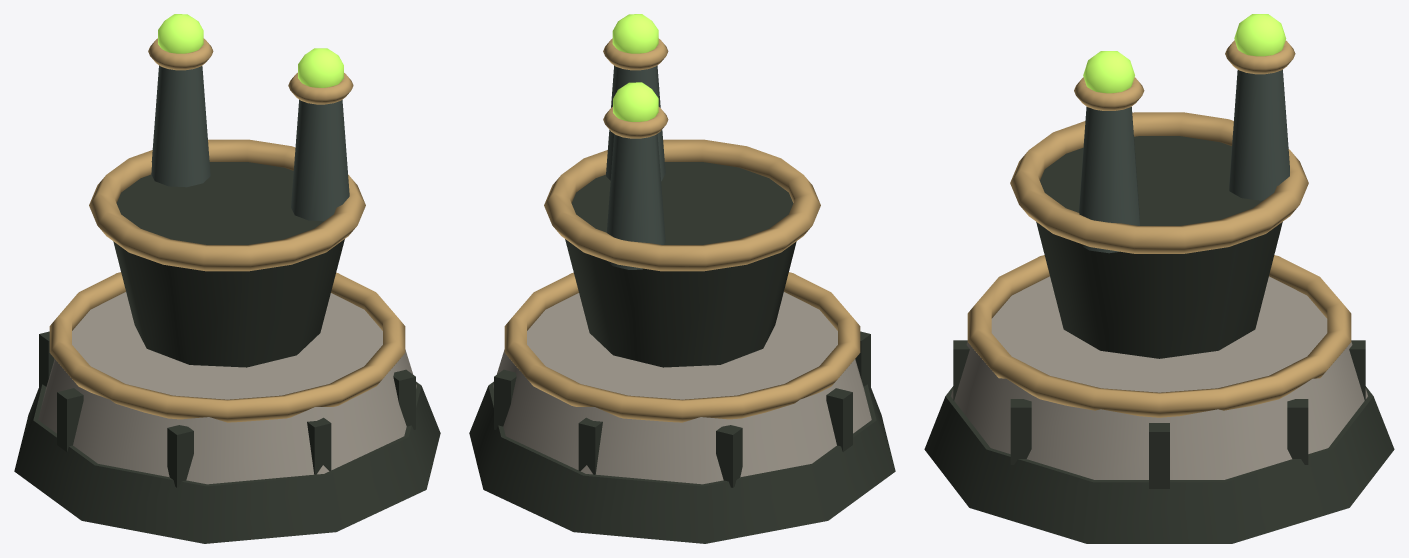
The model's file is tower_poison_poisonSpore.glb.
3 renders of one model, left to right at view 1: azimuth 30°, elevation 25°; view 2: azimuth 150°, elevation 25°; view 3: azimuth 270°, elevation 25°, orthographic. The views are drawn at different scales.
Visible parts, largest first — view 1: stone_1, vessel_11, foot_0, rim_2, vessel_lip_13, chimney_14, chimney_17, spore_19, spore_16, mortar_6, mortar_7, vent_15 (+4 smaller); view 2: stone_1, vessel_11, foot_0, vessel_lip_13, rim_2, chimney_14, spore_19, spore_16, chimney_17, mortar_8, mortar_7, vent_18 (+4 smaller); view 3: stone_1, vessel_11, foot_0, rim_2, vessel_lip_13, chimney_14, chimney_17, spore_19, spore_16, mortar_3, vent_15, vent_18 (+4 smaller).
Boxes of the visible parts, x1,y1,x2,y2 form: stone_1: (38, 292, 416, 484); vessel_11: (113, 162, 344, 367); foot_0: (14, 381, 440, 543); rim_2: (49, 272, 405, 422); vessel_lip_13: (89, 139, 365, 271); chimney_14: (151, 65, 210, 187); chimney_17: (291, 99, 349, 221); spore_19: (298, 48, 343, 87); spore_16: (158, 14, 203, 53); mortar_6: (167, 425, 193, 487); mortar_7: (57, 388, 83, 451); vent_15: (148, 38, 213, 70); stone_1: (493, 292, 871, 484); vessel_11: (565, 162, 796, 367); foot_0: (469, 381, 895, 543); vessel_lip_13: (544, 139, 820, 271); rim_2: (504, 272, 860, 422); chimney_14: (606, 134, 665, 269); spore_19: (612, 14, 658, 53); spore_16: (613, 82, 658, 121); chimney_17: (606, 65, 665, 181); mortar_8: (716, 425, 742, 487); mortar_7: (826, 388, 852, 451); vent_18: (603, 38, 668, 70); stone_1: (951, 276, 1367, 479); vessel_11: (1036, 136, 1282, 358); foot_0: (924, 386, 1394, 543); rim_2: (967, 255, 1351, 417); vessel_lip_13: (1010, 112, 1308, 253); chimney_14: (1229, 69, 1289, 200); chimney_17: (1078, 106, 1139, 253); spore_19: (1083, 51, 1134, 93); spore_16: (1234, 14, 1286, 56); mortar_3: (1149, 423, 1169, 488); vent_15: (1225, 40, 1295, 74); vent_18: (1074, 77, 1144, 110).
Size of the model in its own units: 0.5326 by 0.571 by 0.56.
